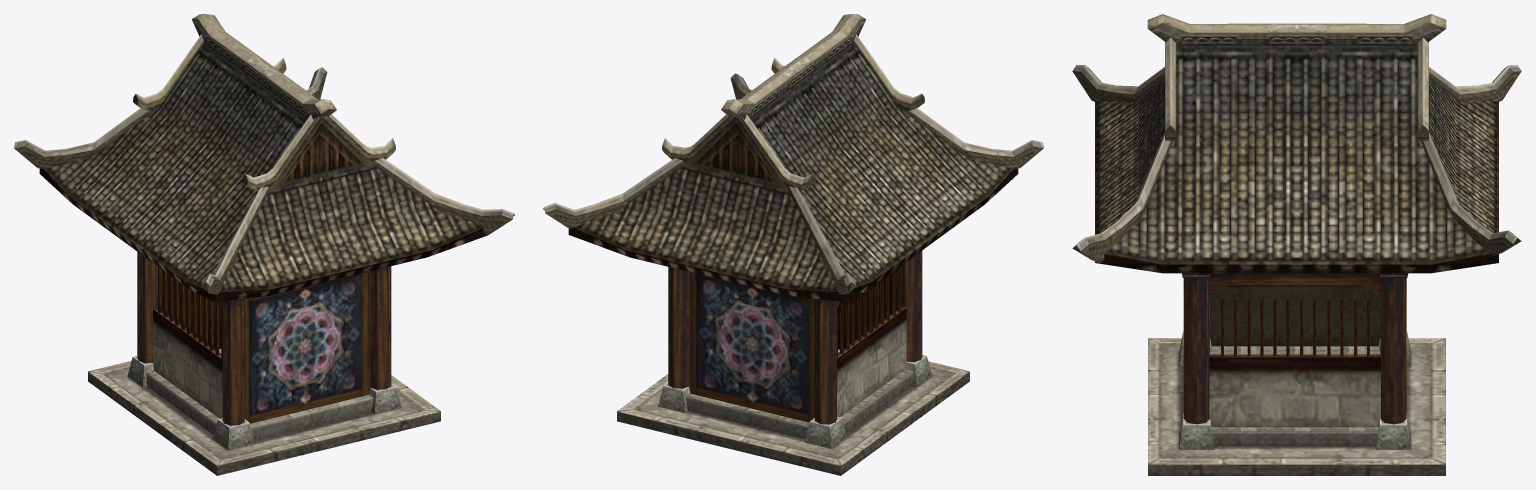
File: nsm-004-house2.glb
The picture shows the model from 3 angles, left to right: view 1: azimuth 30°, elevation 25°; view 2: azimuth 150°, elevation 25°; view 3: azimuth 270°, elevation 25°; orthographic projection. The views are drawn at different scales.
Visible parts, largest first — view 1: Object02; view 2: Object02; view 3: Object02.
Boxes of the visible parts, x1=… form: Object02: x1=14, y1=14, x2=514, y2=475; Object02: x1=543, y1=14, x2=1043, y2=475; Object02: x1=1072, y1=14, x2=1521, y2=475.
Bounding box in the file's own units: 5.23 × 5.5 × 5.63.
Materials: 1 (1 with a texture image).
